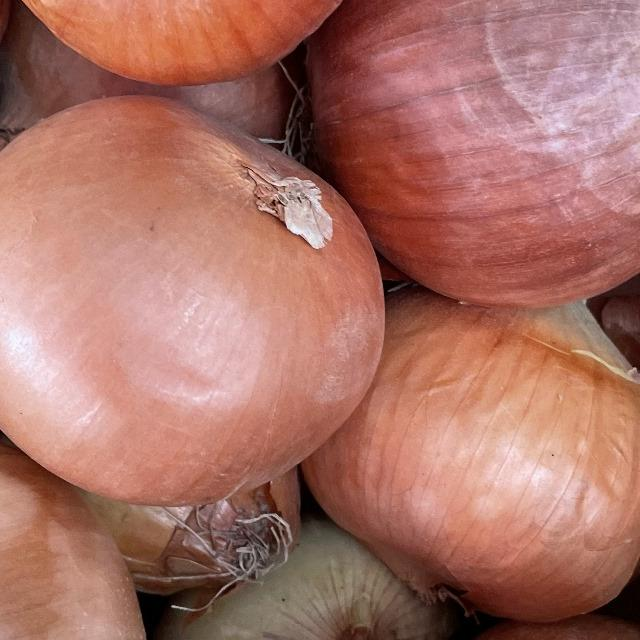onion: (0, 90, 397, 517), (282, 0, 640, 315)
